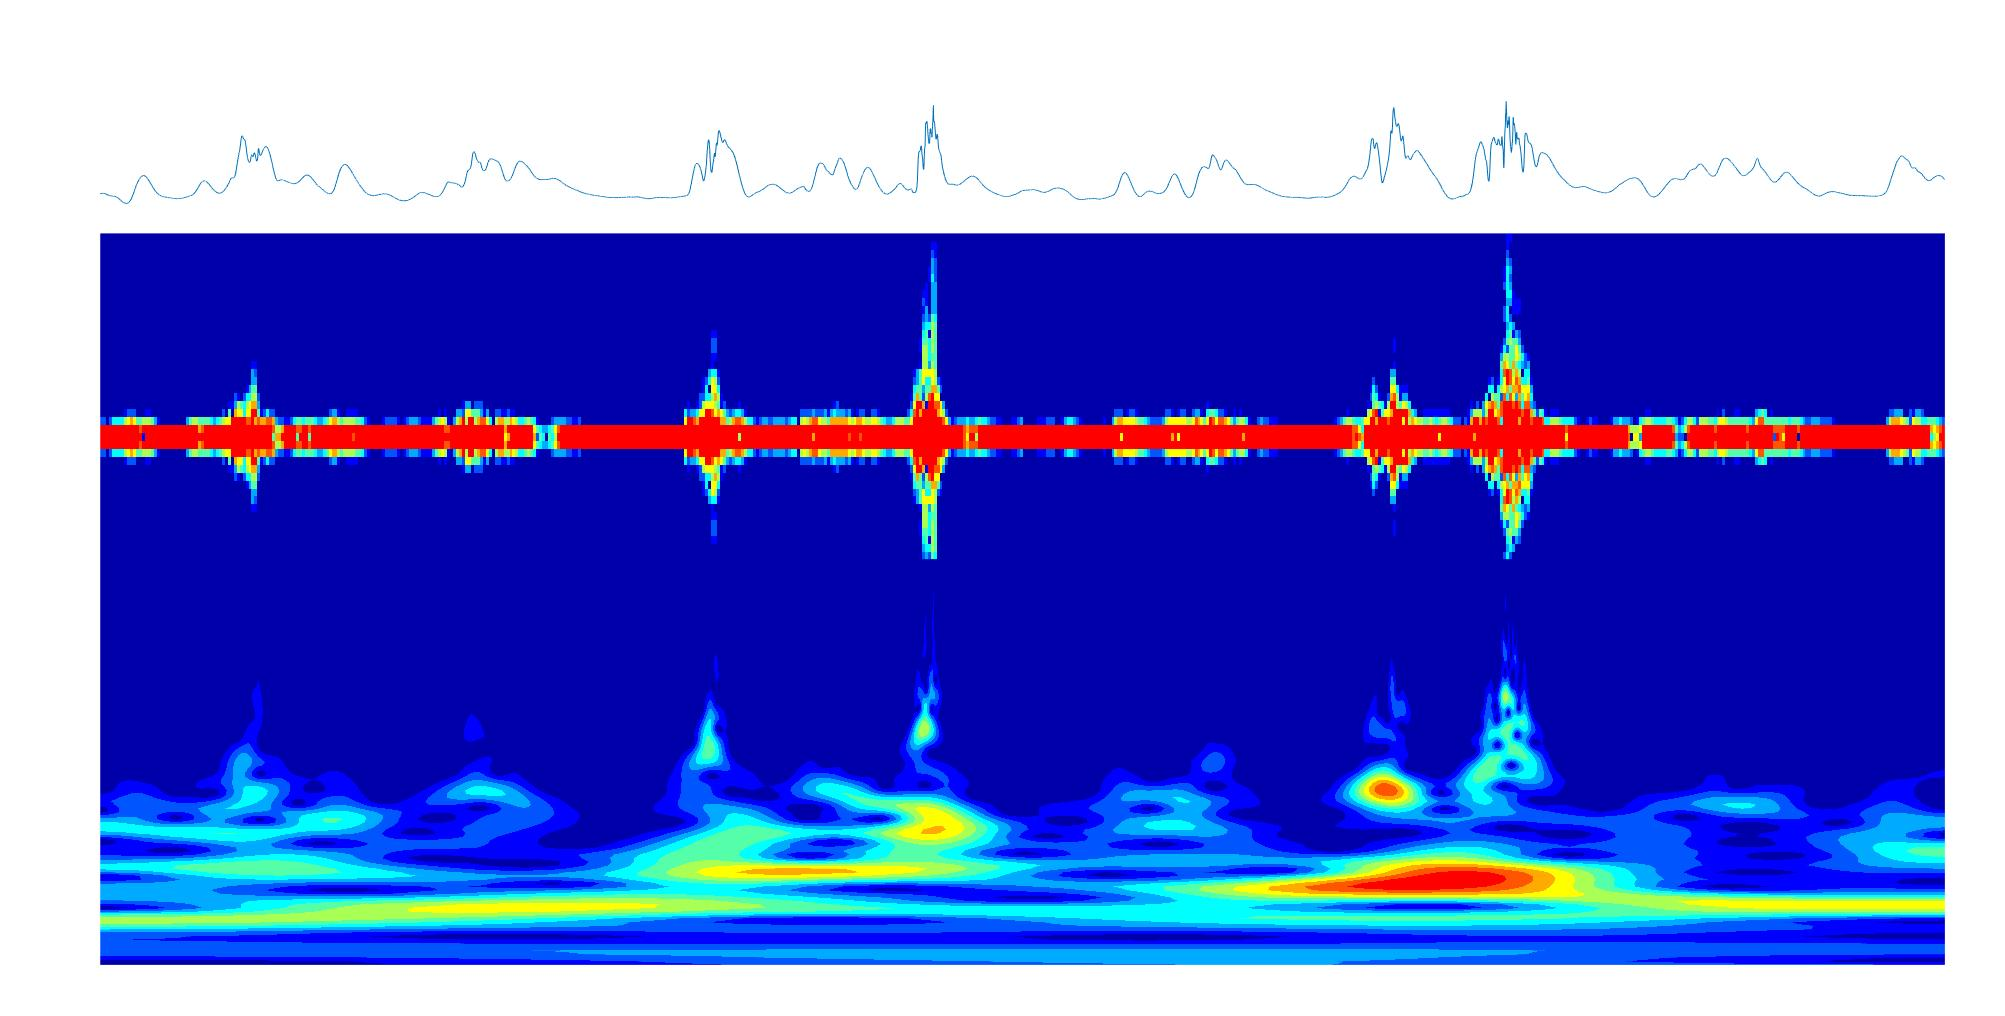TURBULENT: (1478, 233, 1548, 964), (905, 235, 944, 965)
